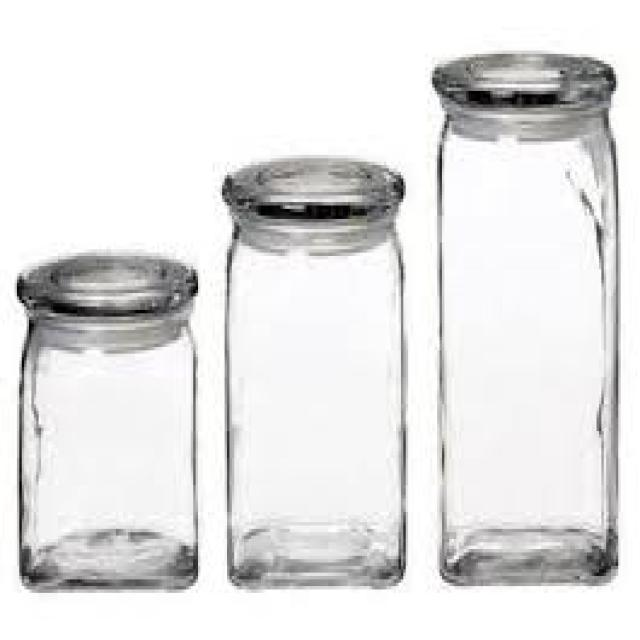glass: (430, 47, 618, 583), (220, 162, 406, 590), (15, 249, 198, 593)
